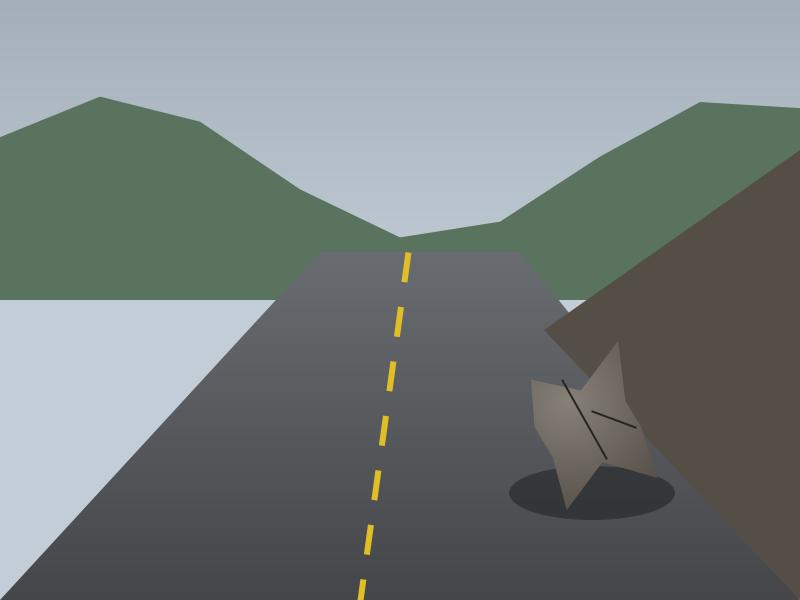ROAD_OBSTACLE: (519, 349, 665, 505)
